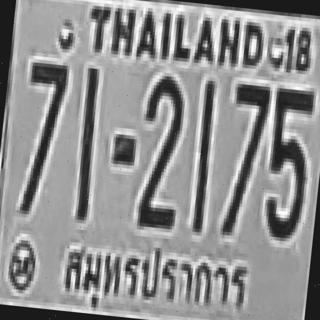N01: (73, 68, 101, 204), (189, 80, 217, 216)
N02: (134, 73, 186, 218), (134, 72, 185, 208)
N05: (260, 84, 314, 239)
N07: (15, 59, 68, 210), (219, 80, 270, 234), (18, 58, 68, 180), (21, 58, 68, 161)
P57: (52, 232, 258, 320)
